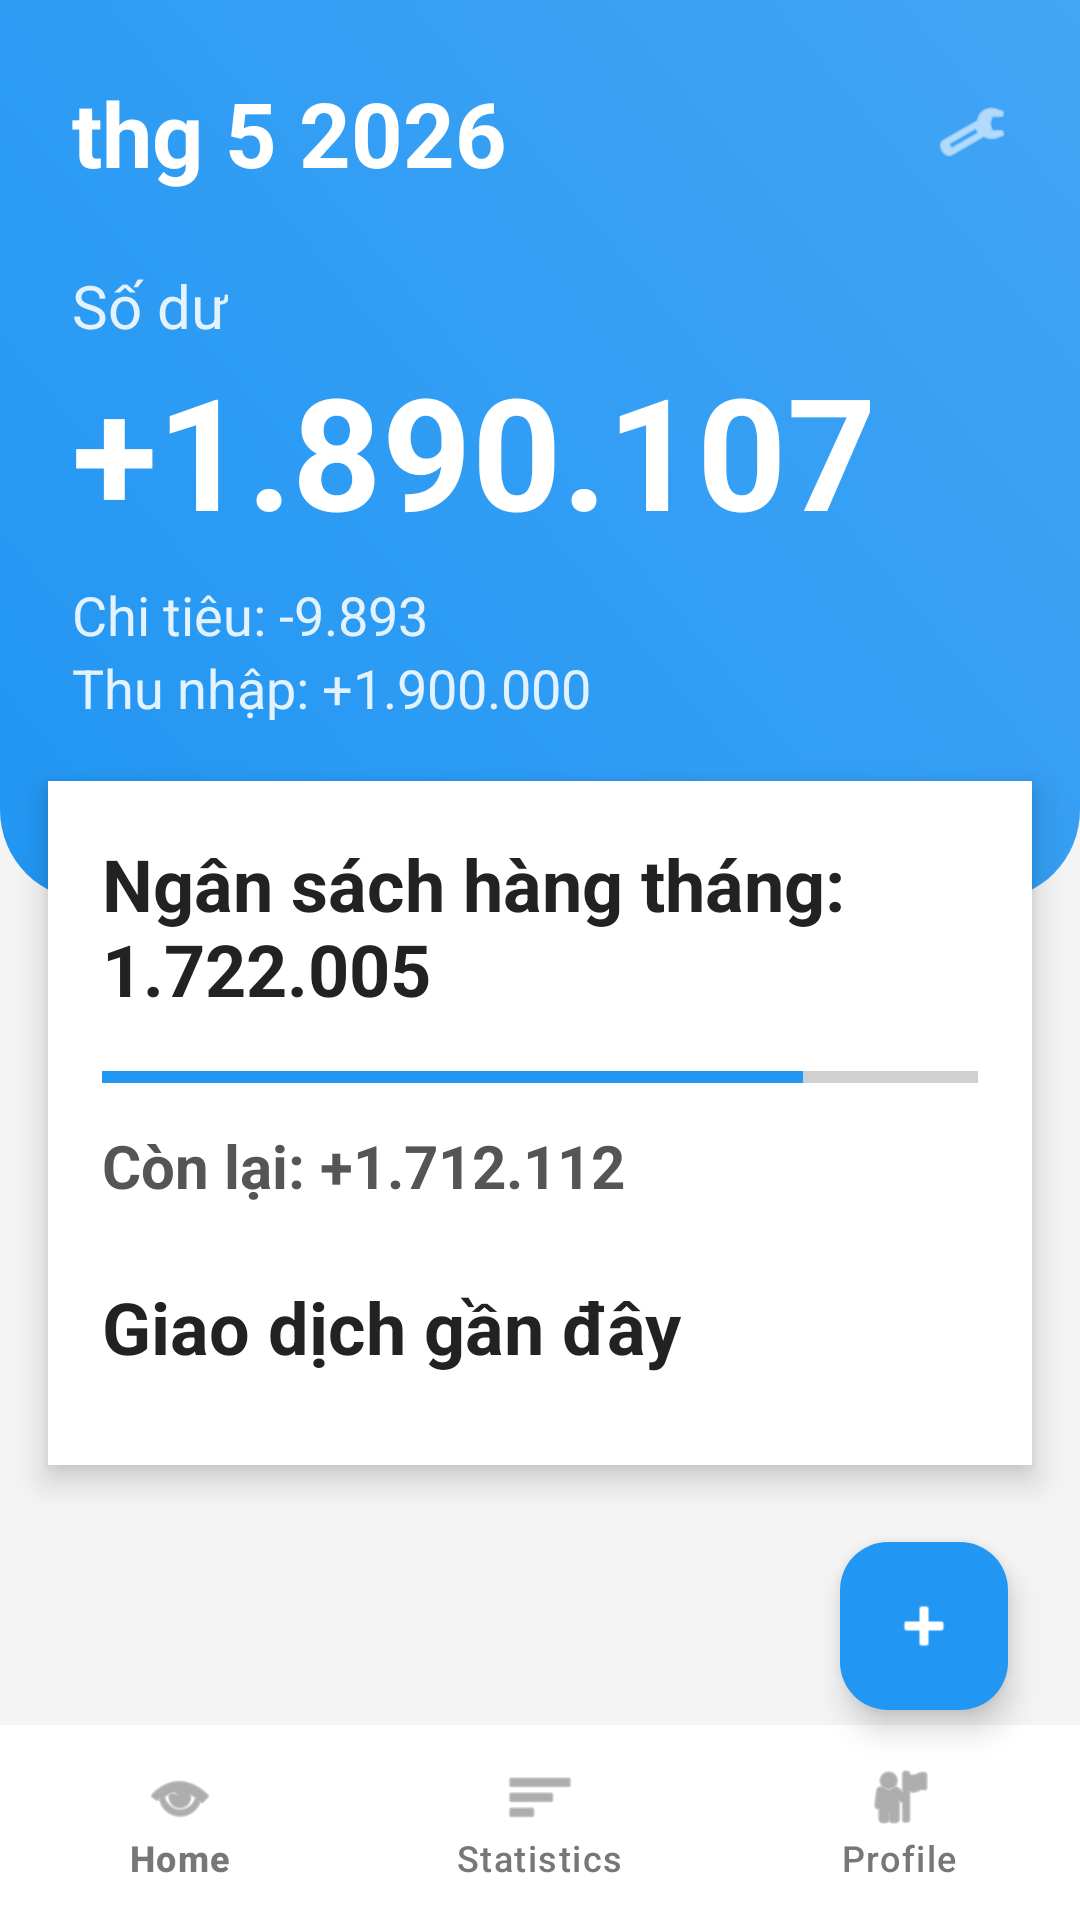

Screen size 1080x1920. Icon name, then its box in pixels as (x1, y1, x2, y2):
add: (840, 1542, 1008, 1710)
manage: (940, 107, 1004, 157)
